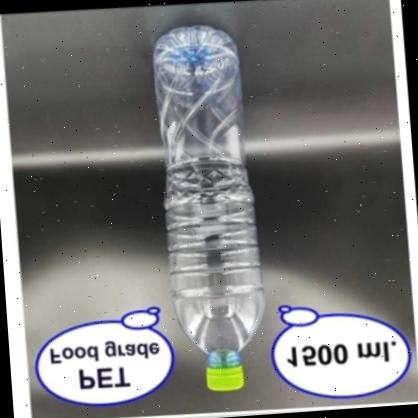bottle: (150, 19, 274, 394)
cap: (204, 361, 246, 390)
